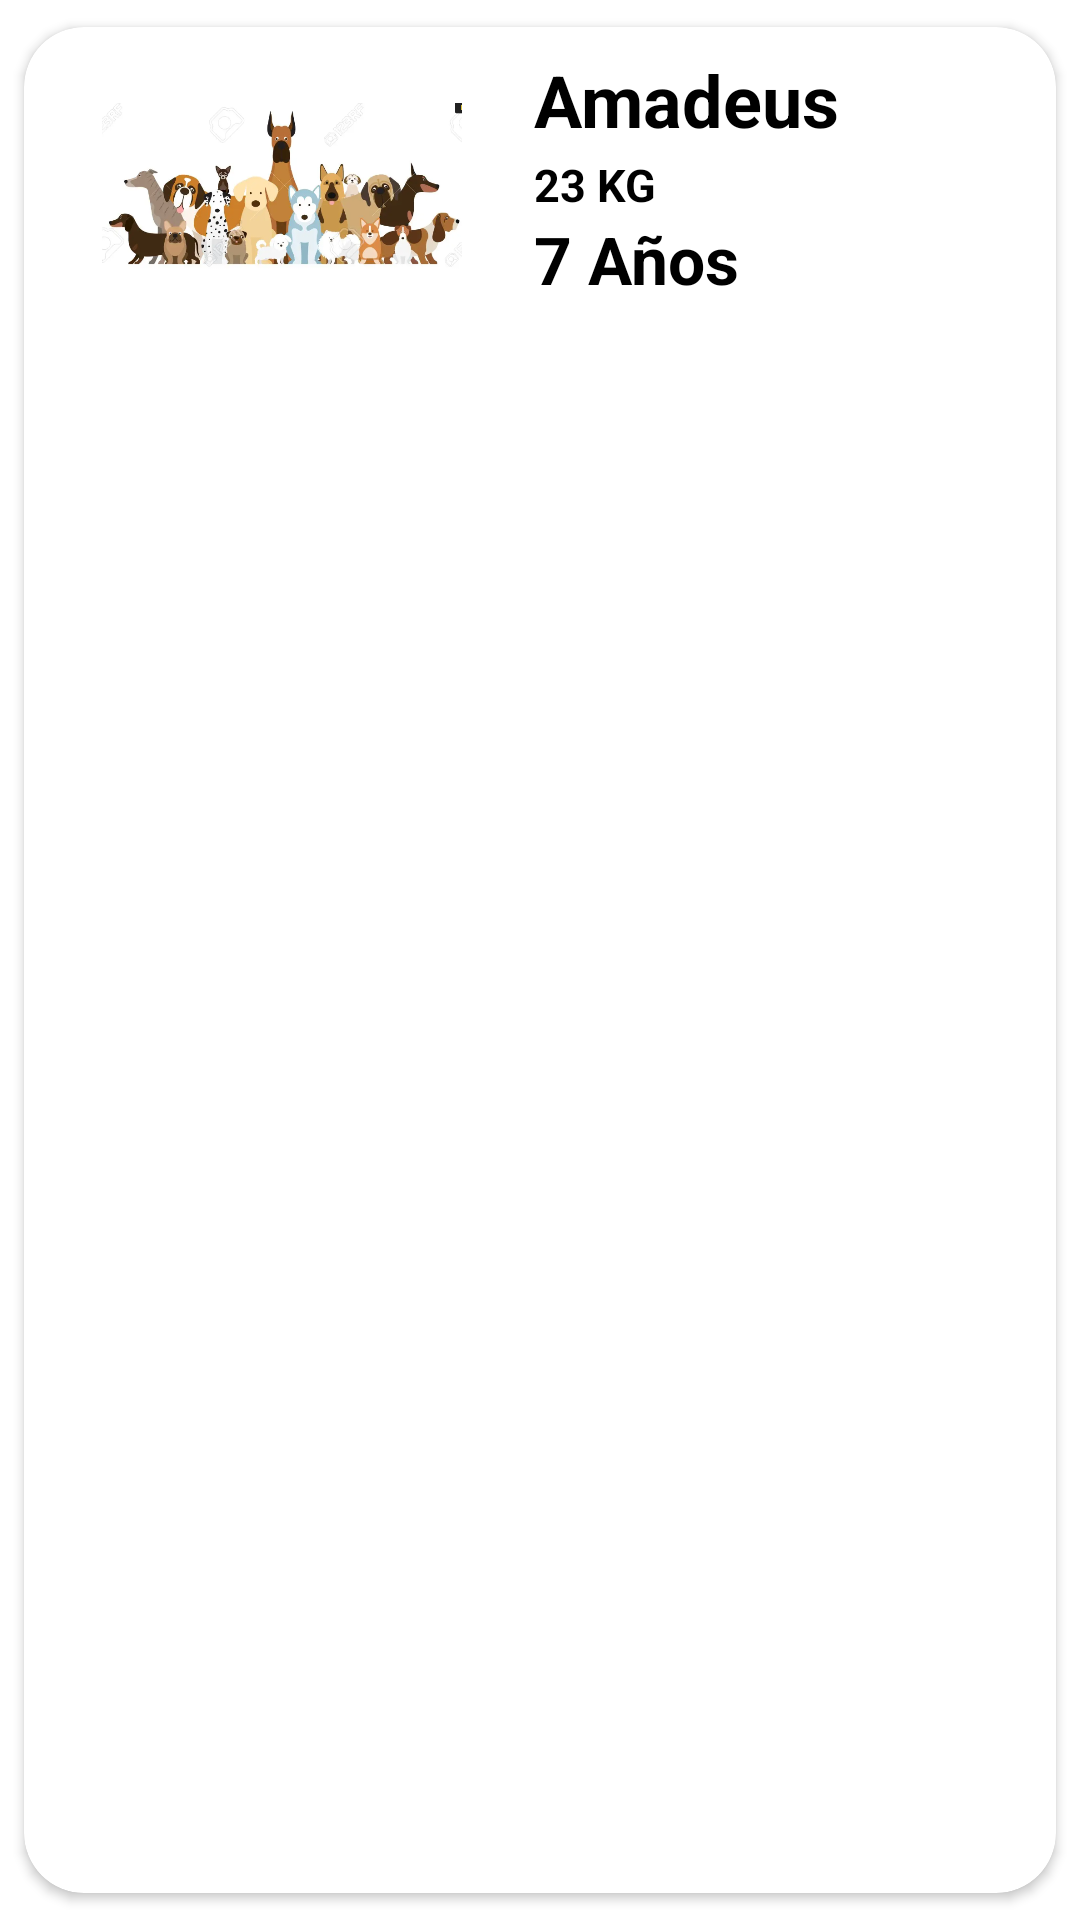

Screen size 1080*1920. Icon name, then its box in pixels as (x1, y1, x2, y2):
caninos: (103, 103, 462, 265)
